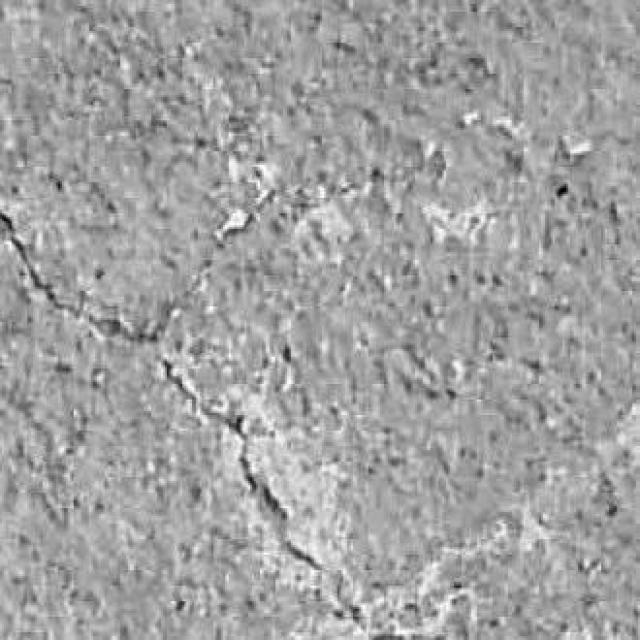crack: (161, 355, 364, 628), (161, 357, 325, 572), (0, 210, 178, 345)
